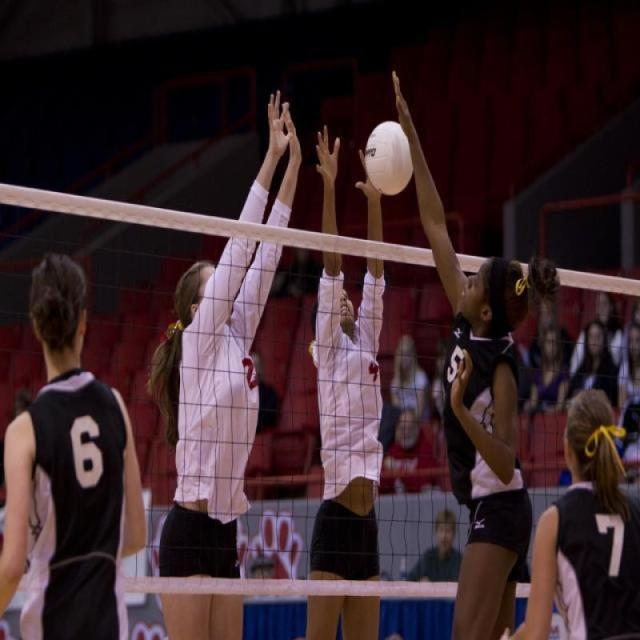volleyball: (362, 117, 414, 196)
